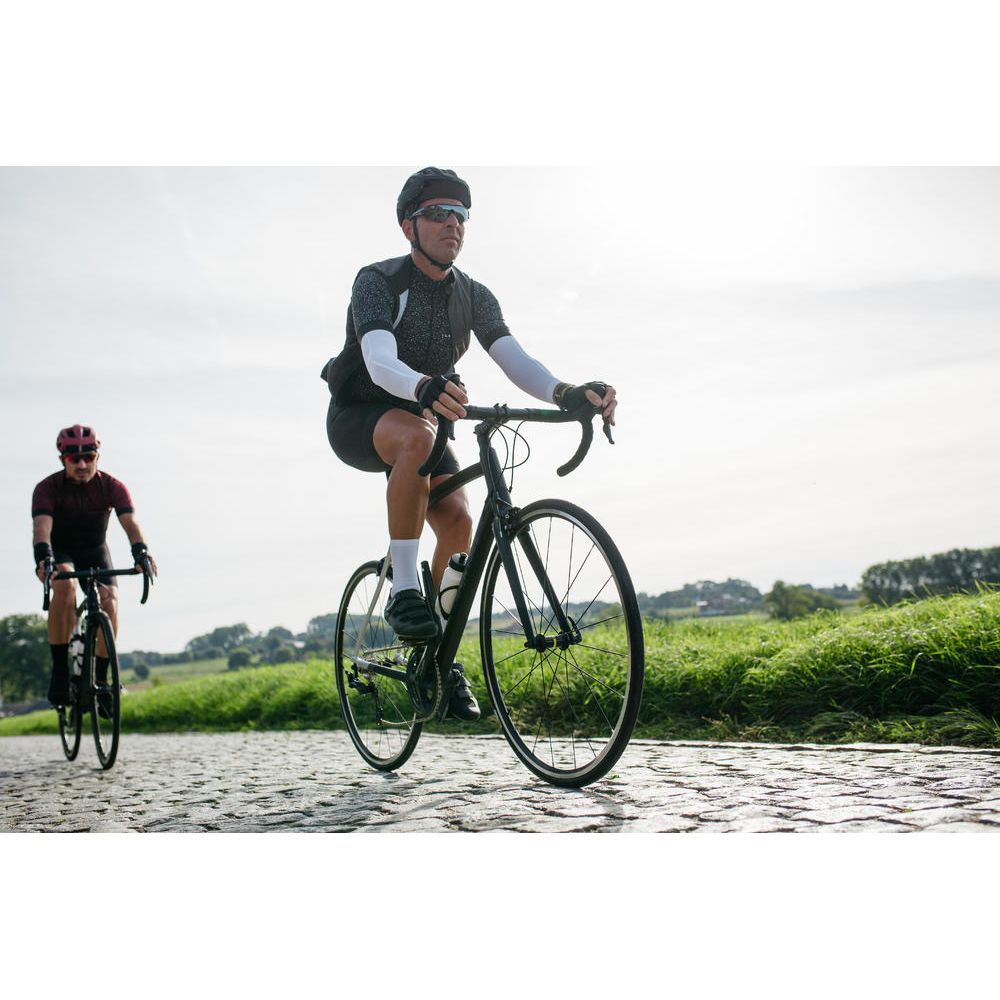RoadBike: (322, 368, 658, 807), (32, 550, 164, 770)
